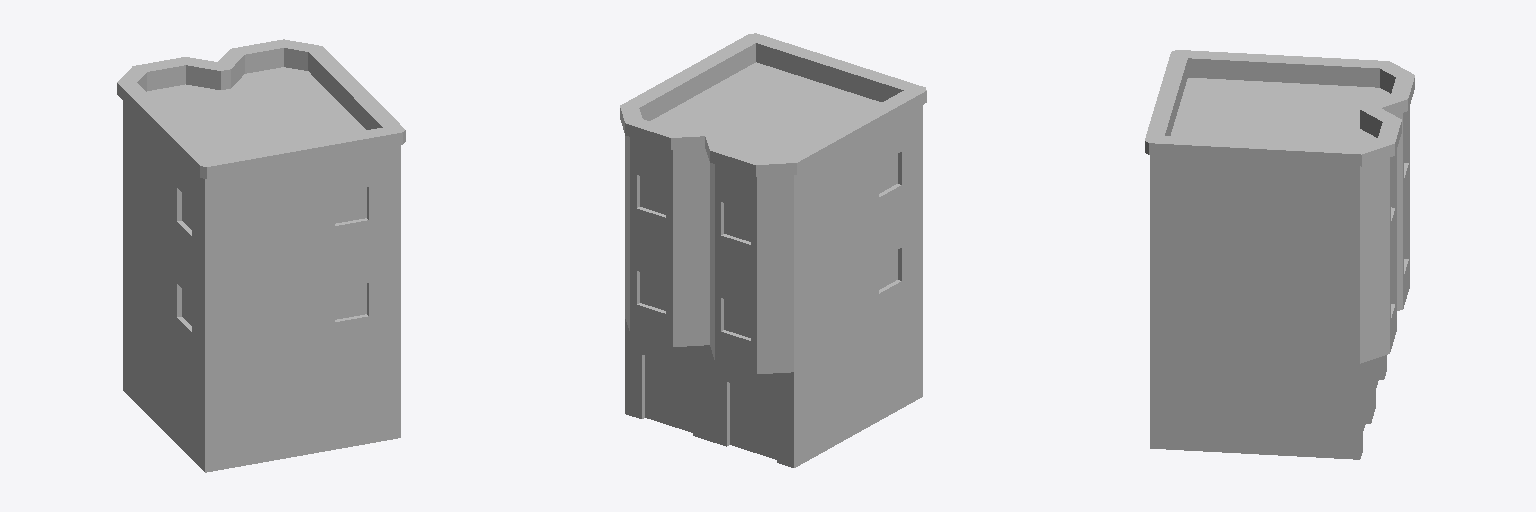
Rendered from variant_49.obj.
3 views of the same model, side by side, from view 1: azimuth 30°, elevation 25°; view 2: azimuth 150°, elevation 25°; view 3: azimuth 270°, elevation 25° (orthographic).
Parts seen in each view (by area): view 1: small_buildingA; view 2: small_buildingA; view 3: small_buildingA.
Boxes of the visible parts, <box> form: small_buildingA: <box>117,39,405,472</box>; small_buildingA: <box>620,33,926,467</box>; small_buildingA: <box>1145,50,1414,459</box>.
Bounding box in the file's own units: 0.9347 × 1.28 × 1.02.